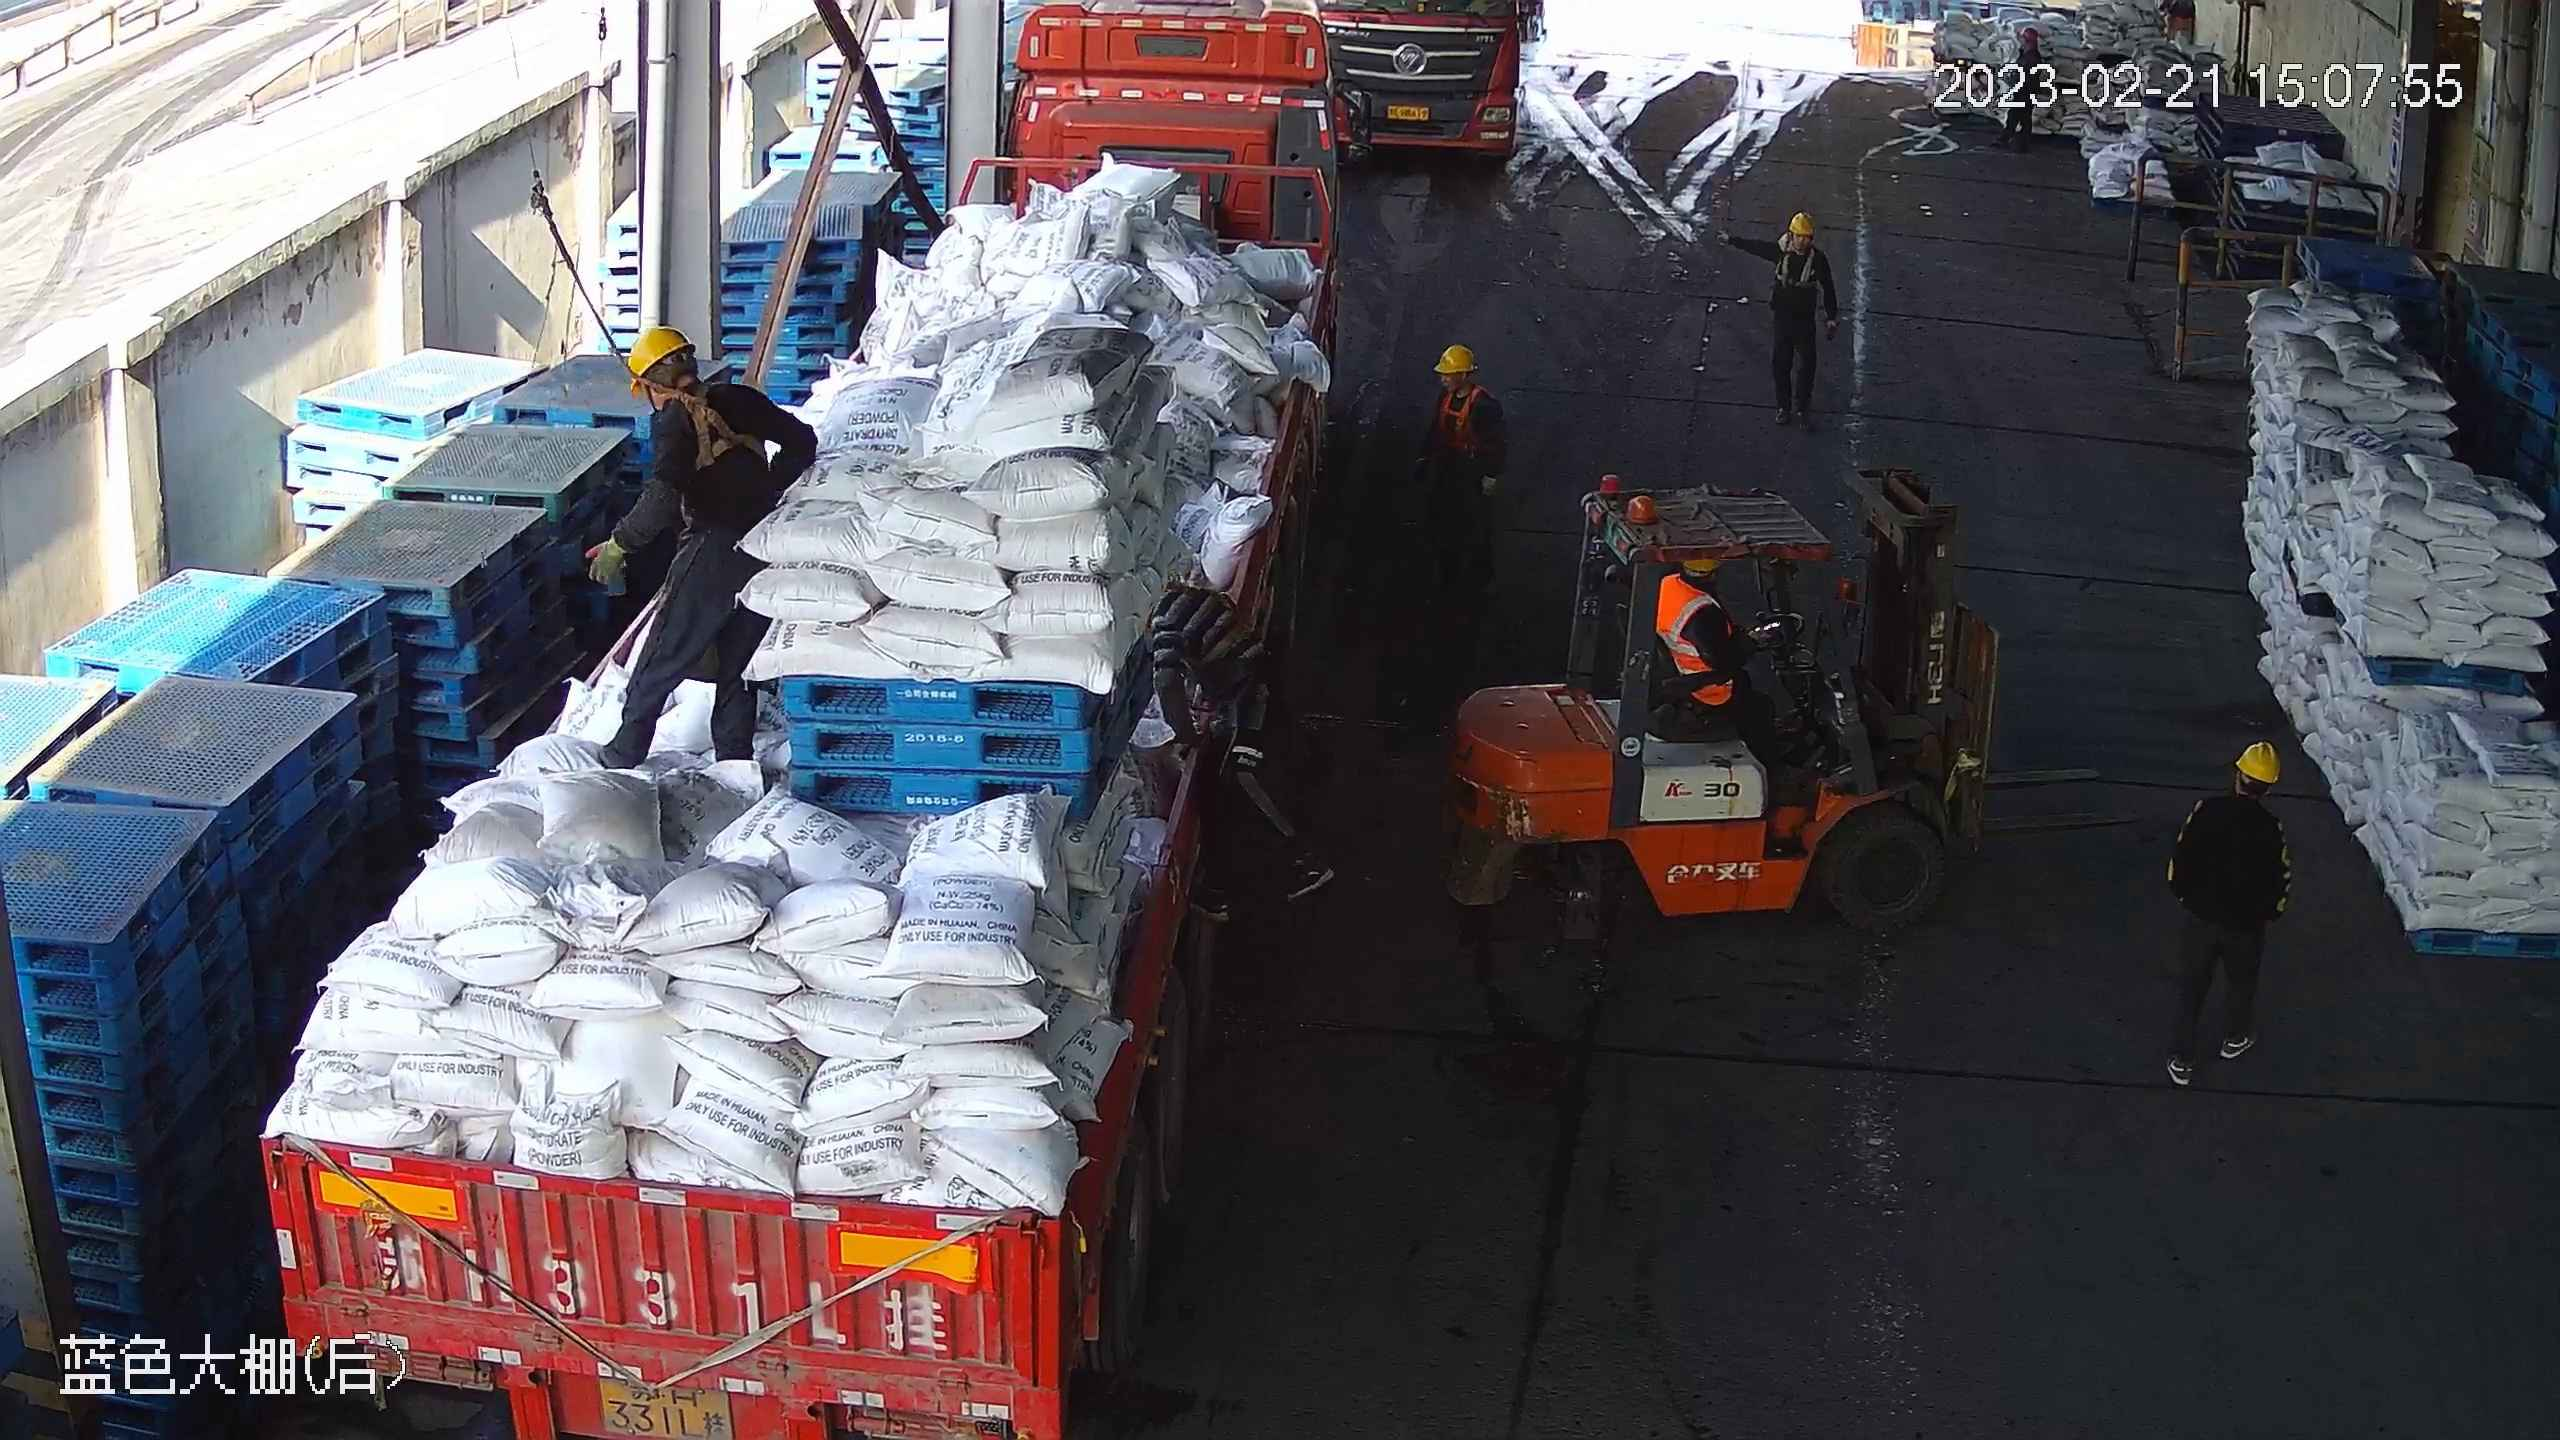belt: (653, 383, 778, 474), (1439, 387, 1496, 453), (1775, 242, 1820, 290)
head: (625, 327, 769, 439), (2179, 741, 2290, 846), (1434, 345, 1504, 421), (1770, 213, 1829, 270)
helmet: (626, 325, 697, 400), (2232, 742, 2283, 785), (1434, 345, 1478, 375), (1788, 211, 1817, 234)
people: (584, 327, 820, 775), (1145, 583, 1340, 923), (2165, 740, 2292, 1087), (1654, 556, 1779, 785), (1414, 345, 1509, 624), (1717, 212, 1838, 435)
truck: (251, 11, 1375, 1440), (1313, 1, 1523, 162)
